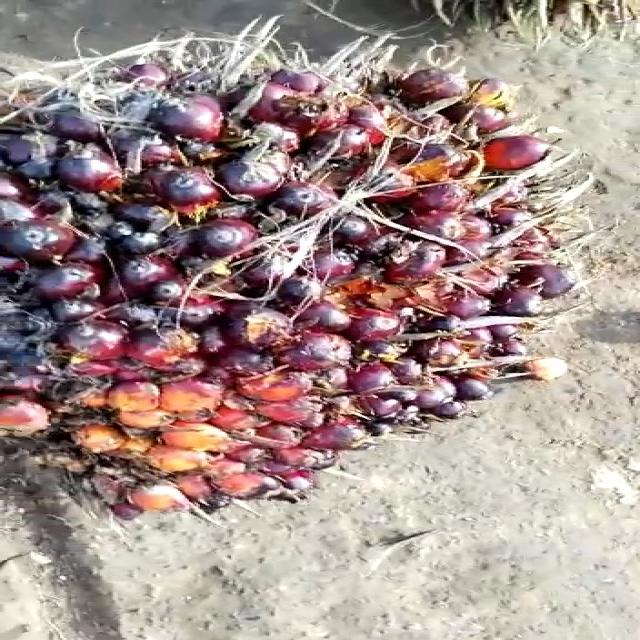palm oil: (0, 30, 589, 535)
